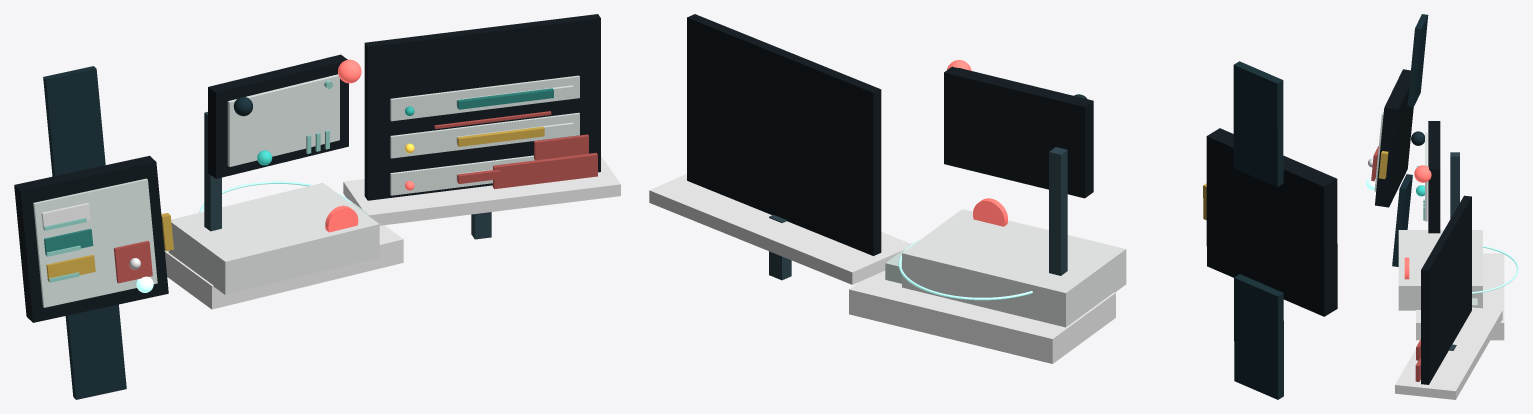
File: 腎安守護-三端式照護系統.glb
3 renders of one model, left to right at view 1: azimuth 30°, elevation 25°; view 2: azimuth 150°, elevation 25°; view 3: azimuth 270°, elevation 25°, orthographic. The views are drawn at different scales.
Parts seen in each view (by area): view 1: office_dashboard_board, bedside_base, screen_time_hr_bp_fall, wearable_case, bedside_screen, office_dashboard_base, bedside_display_activity_call_sos, wearable_top_strap, wearable_bottom_strap, care_bed, office_patient_lin_health_index_row, office_patient_hou_health_index_row (+13 smaller); view 2: office_dashboard_board, wearable_case, bedside_base, bedside_display_activity_call_sos, care_bed, office_dashboard_base, wearable_top_strap, wearable_bottom_strap, bedside_stand, sos_alarm_button, office_dashboard_stand; view 3: office_dashboard_board, office_dashboard_base, wearable_case, bedside_base, care_bed, bedside_display_activity_call_sos, wearable_top_strap, wearable_bottom_strap, bedside_stand, bedside_alarm_siren_light, bedside_activity_sensor_coverage_ring, wearable_manual_sos_side_button (+4 smaller).
Part boxes in pixels (bbox=[...]): office_dashboard_board: bbox=[364, 14, 600, 200]; bedside_base: bbox=[168, 182, 379, 294]; screen_time_hr_bp_fall: bbox=[33, 178, 157, 307]; wearable_case: bbox=[14, 155, 168, 322]; bedside_screen: bbox=[227, 74, 339, 166]; office_dashboard_base: bbox=[343, 156, 620, 225]; bedside_display_activity_call_sos: bbox=[208, 54, 348, 178]; wearable_top_strap: bbox=[43, 66, 105, 176]; wearable_bottom_strap: bbox=[65, 304, 126, 399]; care_bed: bbox=[164, 196, 403, 309]; office_patient_lin_health_index_row: bbox=[390, 112, 579, 158]; office_patient_hou_health_index_row: bbox=[390, 75, 579, 121]; office_dashboard_board: bbox=[687, 14, 881, 255]; wearable_case: bbox=[1206, 128, 1337, 316]; bedside_base: bbox=[902, 209, 1126, 327]; bedside_display_activity_call_sos: bbox=[944, 66, 1093, 198]; care_bed: bbox=[849, 243, 1115, 363]; office_dashboard_base: bbox=[649, 174, 911, 284]; wearable_top_strap: bbox=[1233, 61, 1283, 186]; wearable_bottom_strap: bbox=[1234, 274, 1283, 399]; bedside_stand: bbox=[1049, 147, 1067, 275]; sos_alarm_button: bbox=[973, 198, 1007, 226]; office_dashboard_stand: bbox=[769, 215, 791, 280]; office_dashboard_board: bbox=[1421, 195, 1471, 384]; office_dashboard_base: bbox=[1395, 307, 1502, 399]; wearable_case: bbox=[1375, 69, 1413, 207]; bedside_base: bbox=[1398, 230, 1482, 310]; care_bed: bbox=[1416, 253, 1504, 340]; bedside_display_activity_call_sos: bbox=[1428, 121, 1440, 233]; wearable_top_strap: bbox=[1407, 14, 1428, 106]; wearable_bottom_strap: bbox=[1392, 174, 1412, 266]; bedside_stand: bbox=[1450, 152, 1459, 218]; bedside_alarm_siren_light: bbox=[1414, 165, 1431, 182]; bedside_activity_sensor_coverage_ring: bbox=[1472, 246, 1518, 293]; wearable_manual_sos_side_button: bbox=[1378, 151, 1388, 179].
Size of the model in its own units: 6.54 by 3.23 by 1.9.
